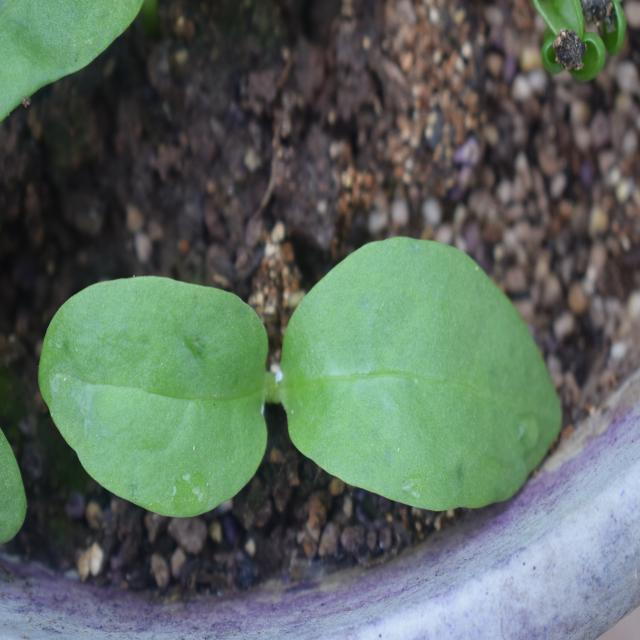Ceylon spinach: (49, 210, 564, 561)
